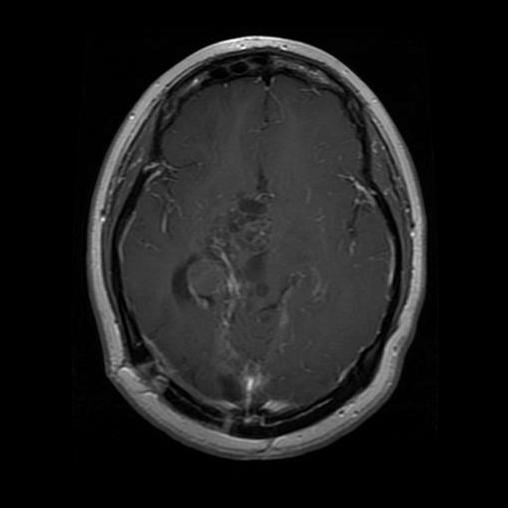Tumour-Glioma: (166, 250, 238, 311)
